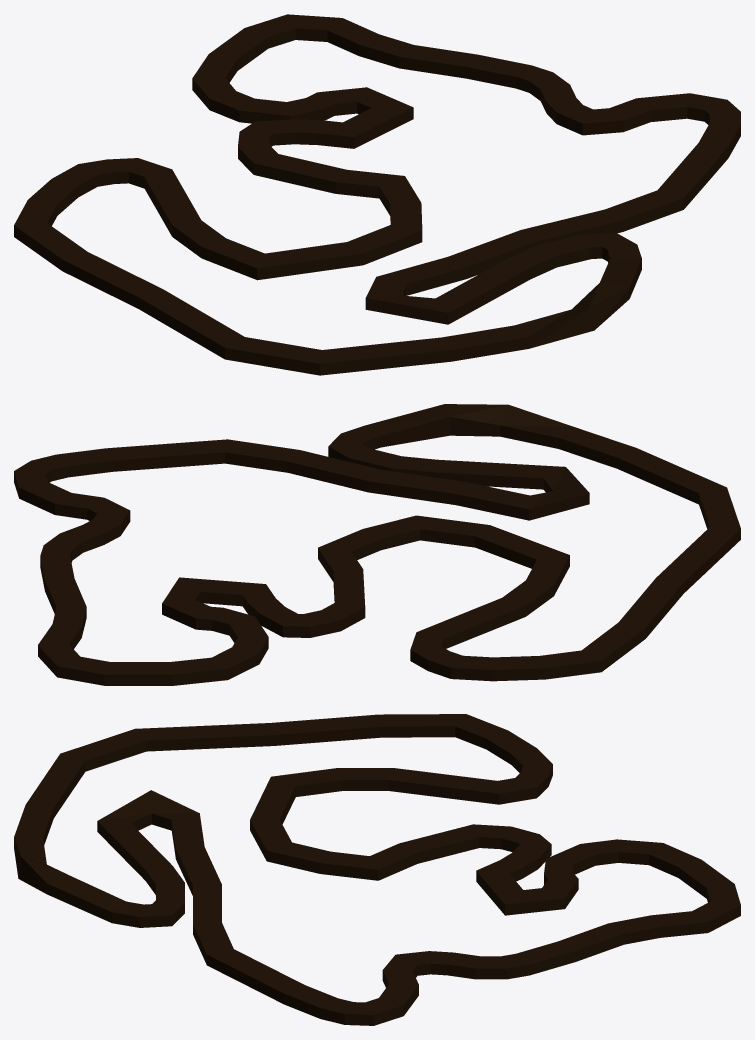
The model's file is circuito0.dae.
3 views of the same model, one above another, from view 1: azimuth 30°, elevation 25°; view 2: azimuth 150°, elevation 25°; view 3: azimuth 270°, elevation 25° (orthographic). The views are drawn at different scales.
Parts seen in each view (by area): view 1: cto-col; view 2: cto-col; view 3: cto-col.
Part boxes in pixels (x1,y1,x2,y2): cto-col: [14, 14, 740, 375]; cto-col: [14, 404, 740, 685]; cto-col: [14, 714, 740, 1025].
Bounding box in the file's own units: 4.9 × 5.01 × 0.157.
